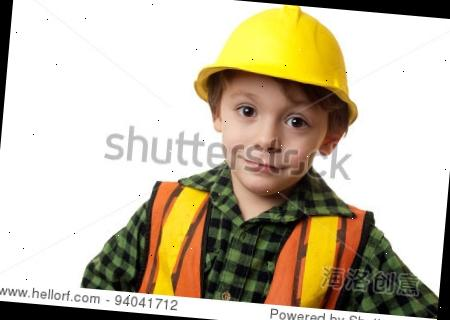helmet: (192, 0, 368, 102)
wear: (88, 175, 404, 314)
